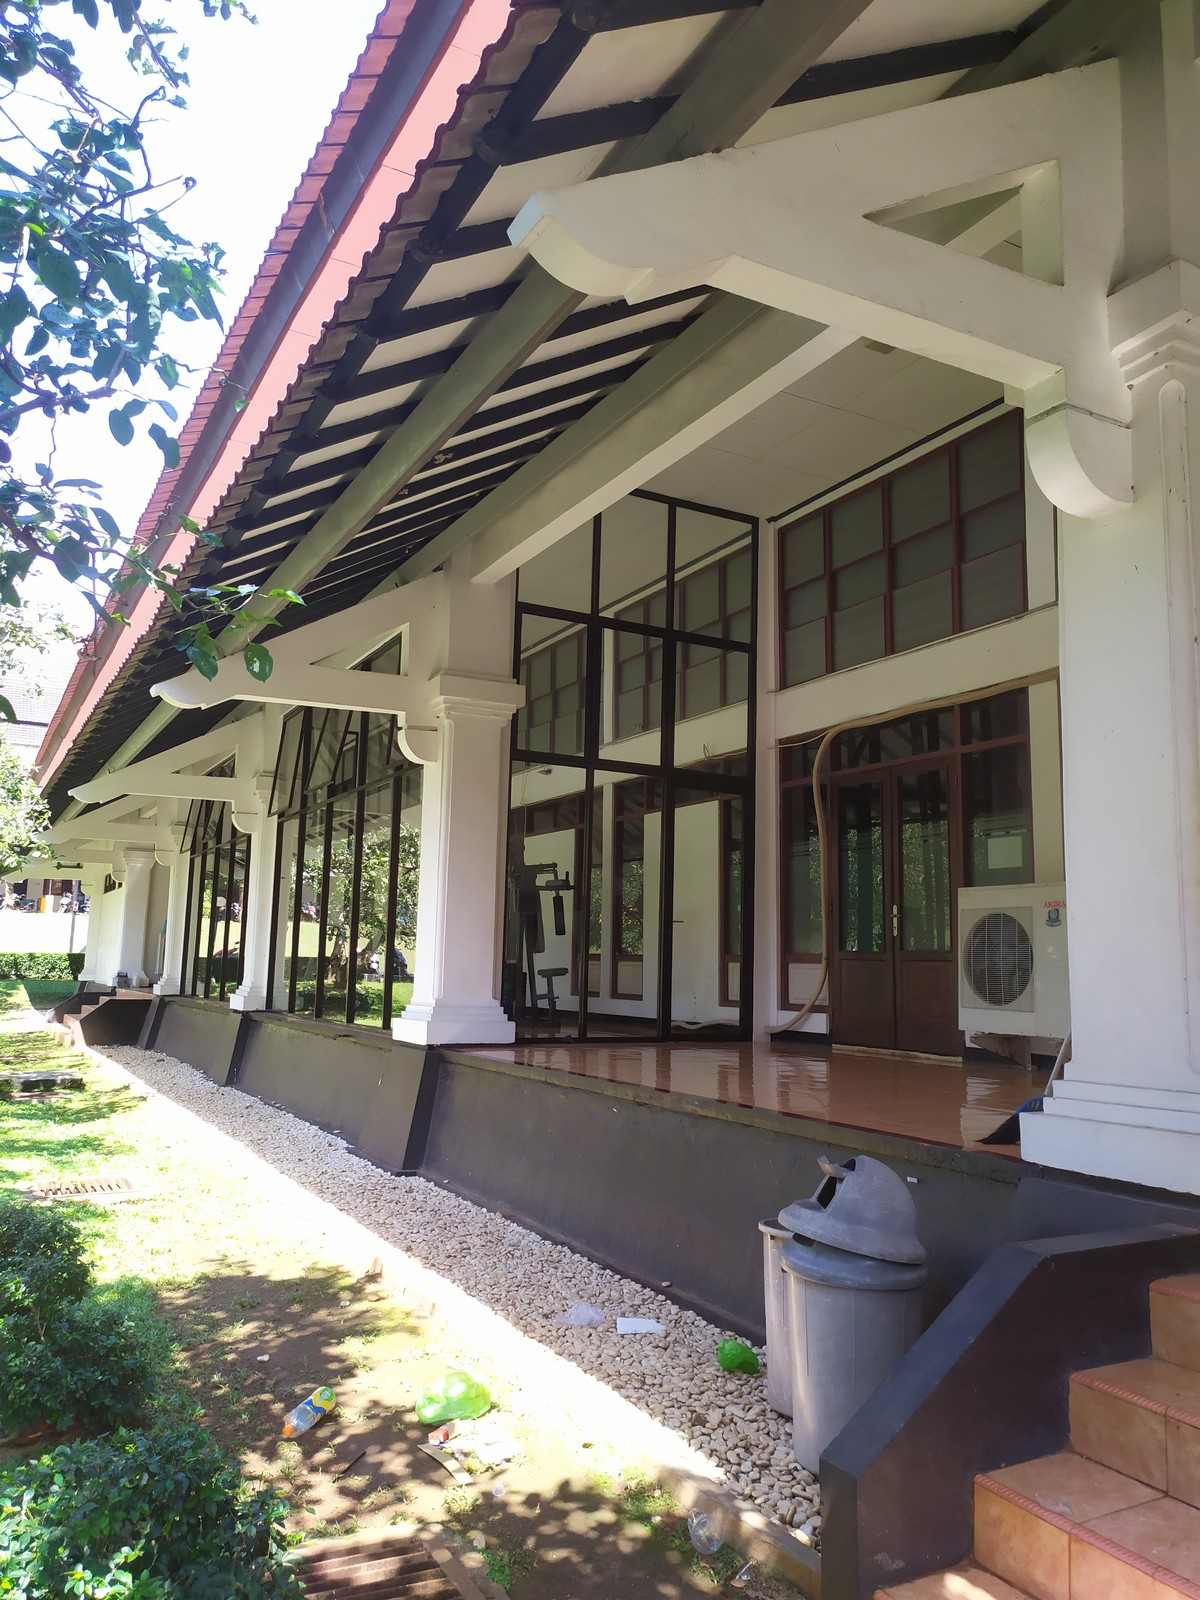concrete beam: (741, 215, 1079, 401), (248, 656, 417, 721)
concrete column: (1030, 386, 1200, 1170), (406, 738, 511, 1051), (234, 826, 297, 1017)
